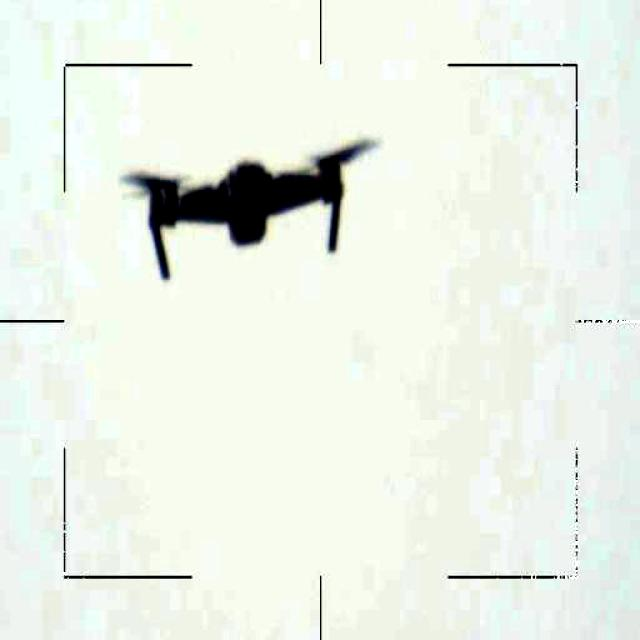bird: (116, 134, 380, 289)
